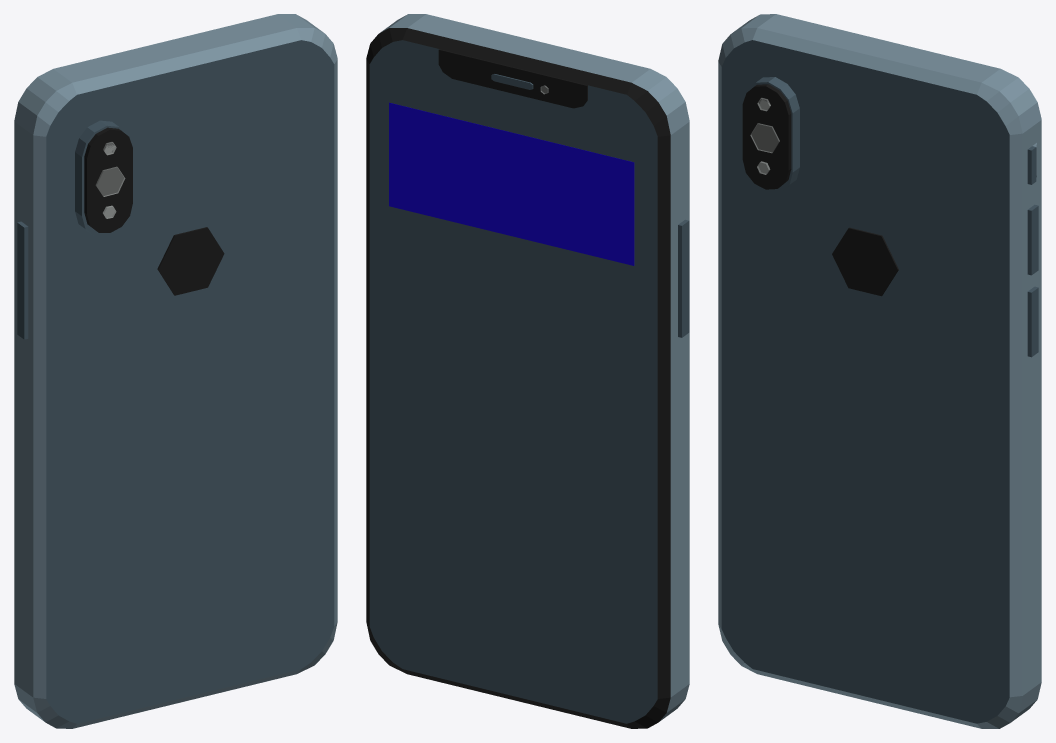
The model's file is Phonetest.glb.
3 views of the same model, side by side, from view 1: azimuth 30°, elevation 25°; view 2: azimuth 150°, elevation 25°; view 3: azimuth 330°, elevation 25° (orthographic).
Visible parts, largest first — view 1: group817659832, group40103501, group1638188736, group465359774, group1637273763, group1982349354; view 2: group817659832, Cube, group660411554, group1637273763; view 3: group817659832, group40103501, group1638188736, group465359774, group849457402, group1152579848, group1982349354.
Part boxes in pixels (bbox=[...]): group817659832: bbox=[14, 14, 337, 728]; group40103501: bbox=[84, 127, 132, 232]; group1638188736: bbox=[157, 227, 224, 295]; group465359774: bbox=[75, 120, 127, 236]; group1637273763: bbox=[17, 221, 28, 339]; group1982349354: bbox=[96, 167, 125, 196]; group817659832: bbox=[366, 14, 689, 728]; Cube: bbox=[389, 102, 634, 265]; group660411554: bbox=[438, 49, 587, 108]; group1637273763: bbox=[678, 219, 689, 337]; group817659832: bbox=[718, 14, 1041, 728]; group40103501: bbox=[742, 84, 791, 189]; group1638188736: bbox=[832, 227, 898, 296]; group465359774: bbox=[743, 77, 799, 192]; group849457402: bbox=[1027, 204, 1038, 275]; group1152579848: bbox=[1027, 286, 1038, 357]; group1982349354: bbox=[750, 123, 779, 152].
Bounding box in the file's own units: 0.76 × 1.5 × 0.1761.
